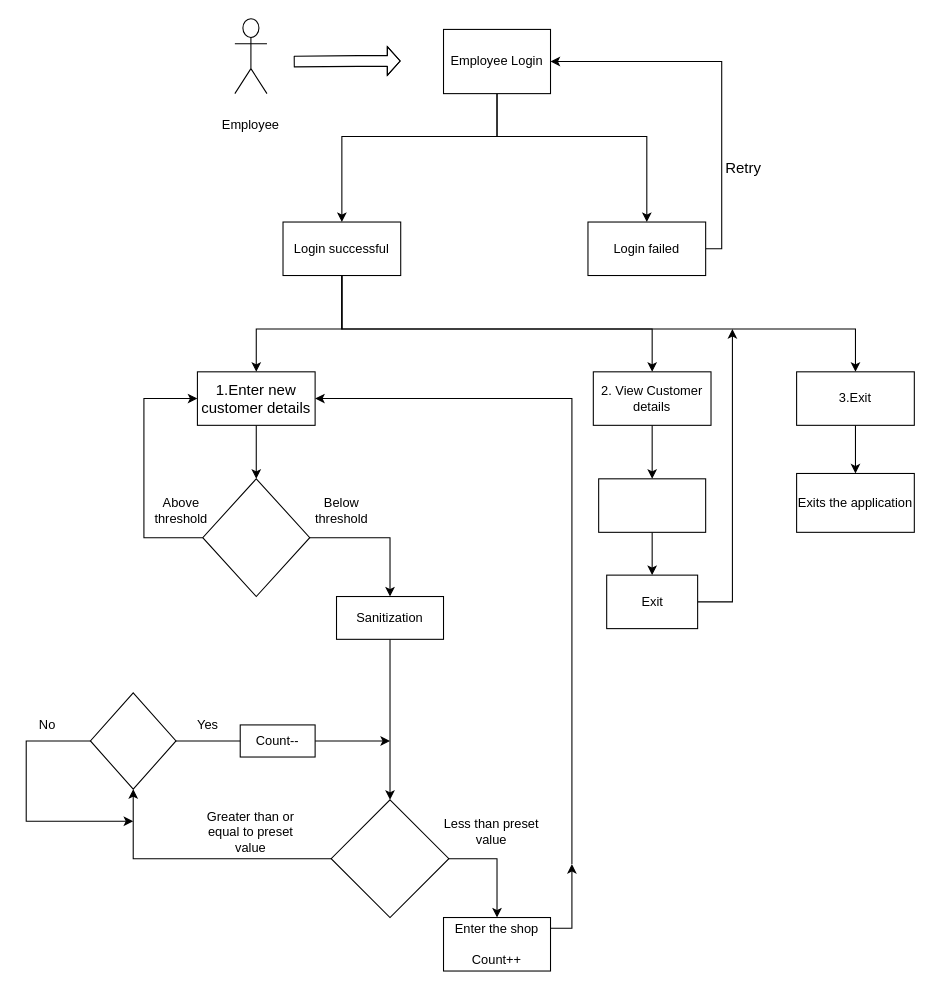
Image size: 933x998. Some labels were removed from this diagram. Here are the shapes that lost their labels. From the top down, the box of each, then its label:
(234, 18, 267, 94): Actor
(598, 478, 706, 532): Opens the document
(202, 478, 310, 597): Temperature check
(89, 692, 176, 789): Check if anyone exits
(330, 799, 449, 918): Check no: of persons inside
